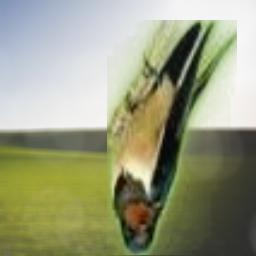Swallow: (107, 20, 237, 255)
